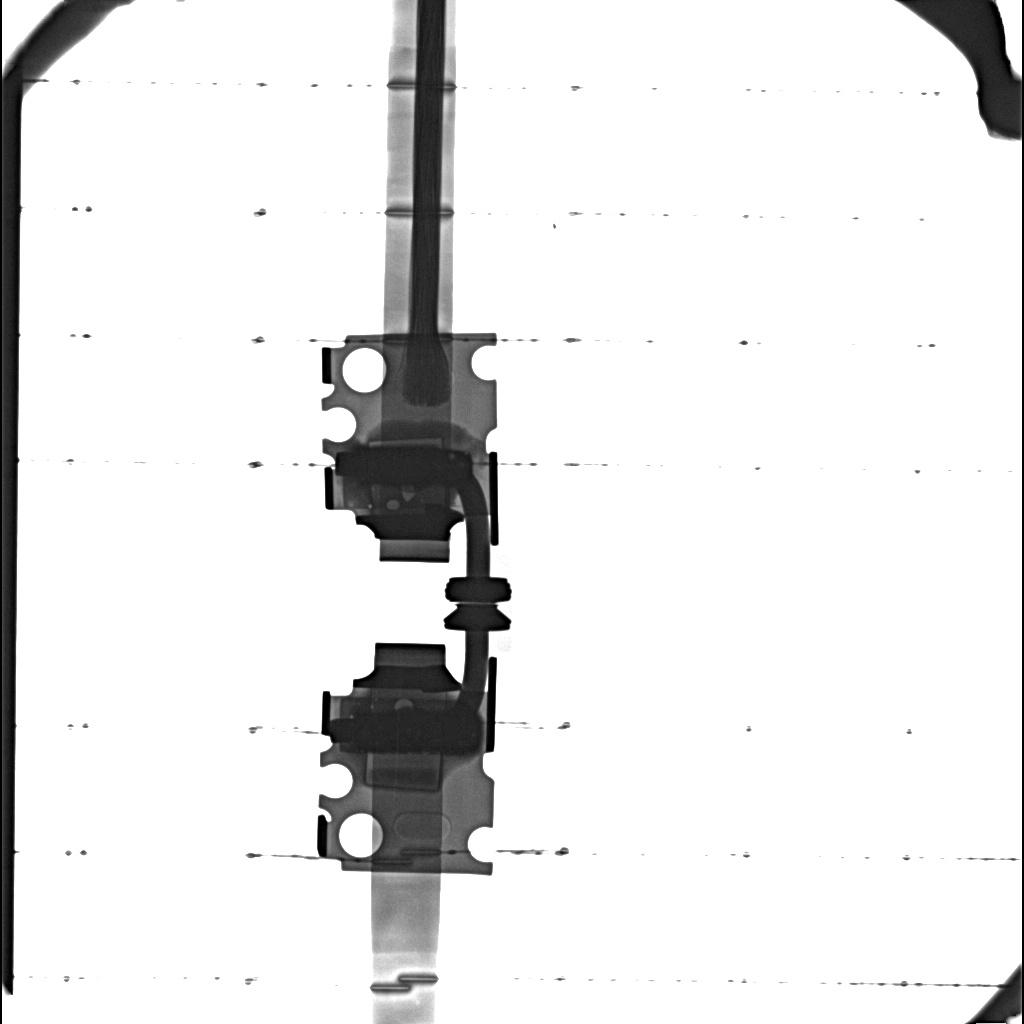defect: (352, 706, 481, 753), (357, 446, 471, 487), (364, 755, 442, 791), (366, 436, 445, 446), (394, 699, 411, 709), (386, 499, 400, 510), (402, 491, 415, 501)
